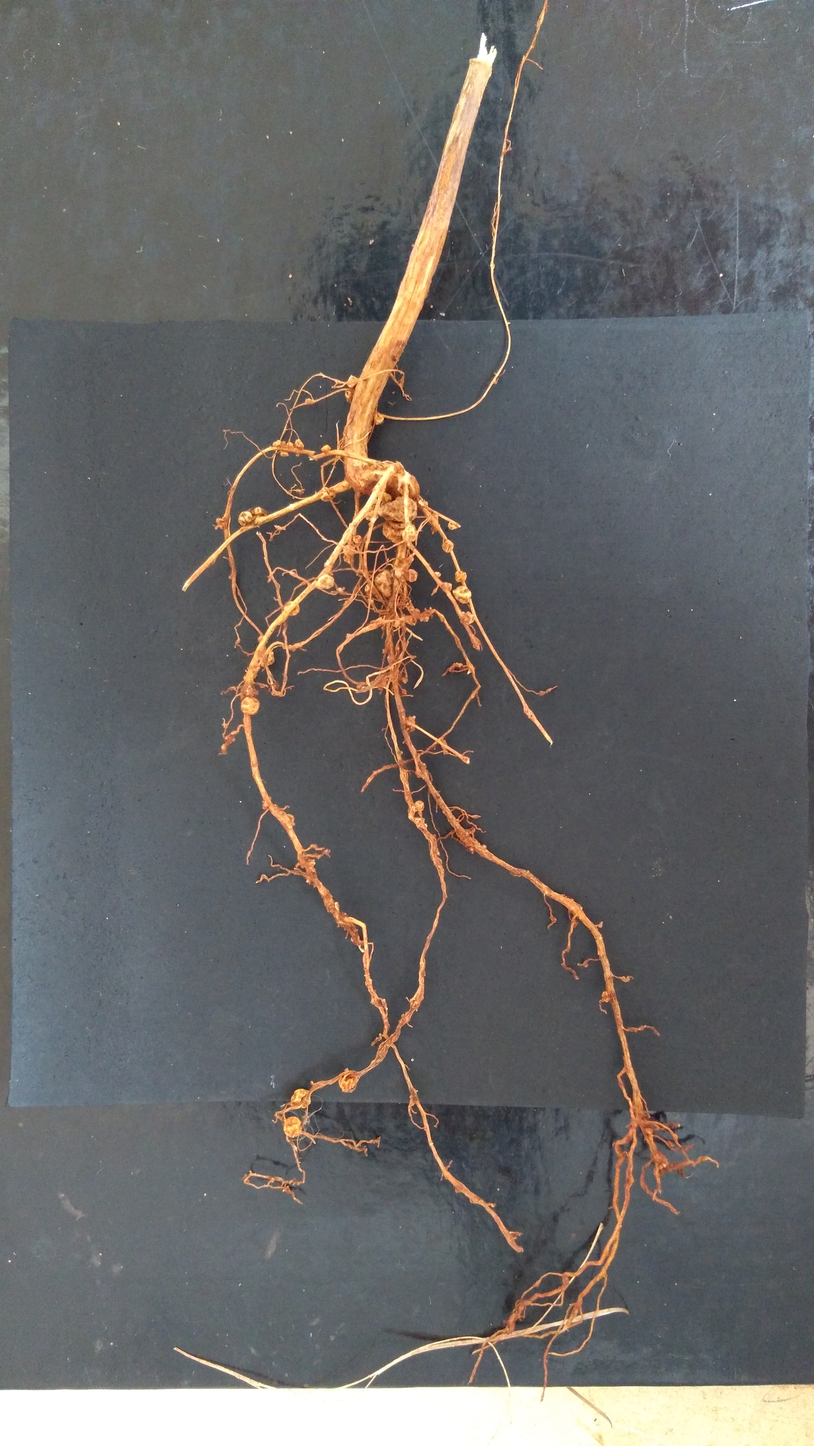nodule: (360, 460, 420, 499), (378, 495, 418, 522), (382, 520, 418, 544), (365, 492, 393, 521), (338, 1067, 361, 1092), (374, 570, 393, 598), (290, 1088, 311, 1109), (239, 696, 261, 716), (283, 1116, 302, 1139), (452, 585, 472, 604), (240, 681, 259, 701), (315, 574, 335, 589), (402, 525, 418, 542), (284, 600, 300, 617), (320, 486, 336, 502), (238, 510, 254, 526), (259, 651, 275, 667), (342, 543, 354, 563), (300, 858, 316, 873), (280, 440, 294, 457), (415, 762, 429, 779), (460, 611, 475, 626), (246, 508, 270, 517), (430, 512, 439, 534), (405, 715, 416, 733), (414, 816, 428, 830), (441, 539, 454, 553), (394, 567, 408, 580), (294, 439, 304, 457), (346, 375, 359, 388), (454, 570, 467, 583), (393, 615, 405, 629), (373, 410, 384, 425), (407, 568, 418, 583), (448, 662, 463, 673), (285, 813, 295, 829), (215, 517, 228, 529), (364, 583, 376, 596), (261, 796, 272, 810), (401, 595, 412, 609), (225, 730, 237, 742), (414, 800, 425, 812), (267, 681, 279, 692), (439, 737, 448, 751), (601, 990, 610, 1003), (345, 387, 353, 401), (448, 521, 459, 531), (441, 582, 453, 591), (419, 612, 429, 622), (418, 498, 429, 507), (620, 975, 631, 983), (253, 506, 262, 515), (321, 445, 331, 453), (353, 535, 363, 543), (334, 901, 340, 912), (272, 440, 281, 447), (305, 398, 313, 405), (367, 597, 374, 605), (597, 920, 604, 928), (434, 571, 441, 578), (337, 586, 344, 593), (412, 607, 419, 614), (401, 677, 408, 684), (400, 688, 407, 695), (257, 635, 263, 643), (220, 744, 227, 750), (381, 648, 387, 654), (223, 723, 228, 729), (395, 646, 400, 651), (482, 844, 487, 849), (306, 878, 311, 883), (310, 1080, 314, 1086)
